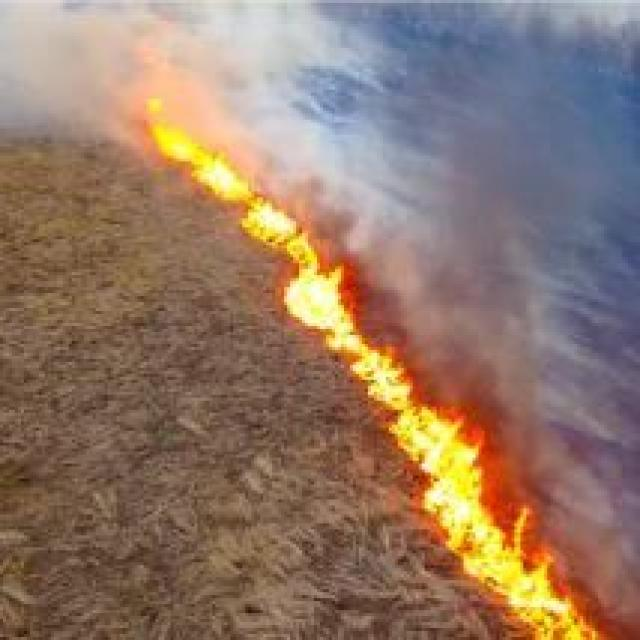Fire: (428, 490, 574, 640), (357, 355, 478, 489), (248, 205, 354, 342), (143, 116, 241, 203)
Smoke: (402, 0, 636, 321), (18, 0, 371, 167), (480, 328, 640, 514)
